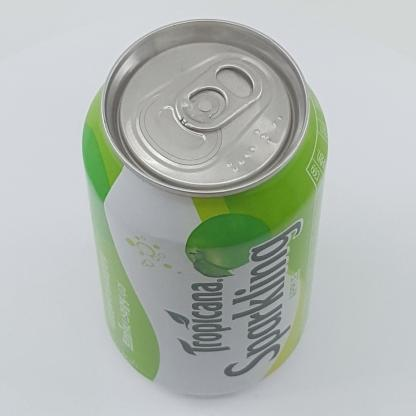-------------355ML: (82, 19, 328, 396)
